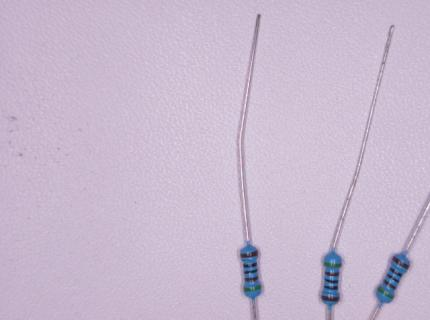Black band: (389, 267, 403, 278), (386, 273, 399, 283), (243, 262, 258, 268), (244, 269, 258, 275), (324, 284, 338, 290), (324, 278, 338, 283)
Brown band: (391, 256, 409, 270), (382, 279, 397, 290), (321, 295, 339, 302), (240, 251, 258, 257), (244, 275, 259, 282), (324, 271, 339, 277)
Green band: (377, 286, 394, 300), (244, 284, 261, 292), (324, 261, 341, 268)
